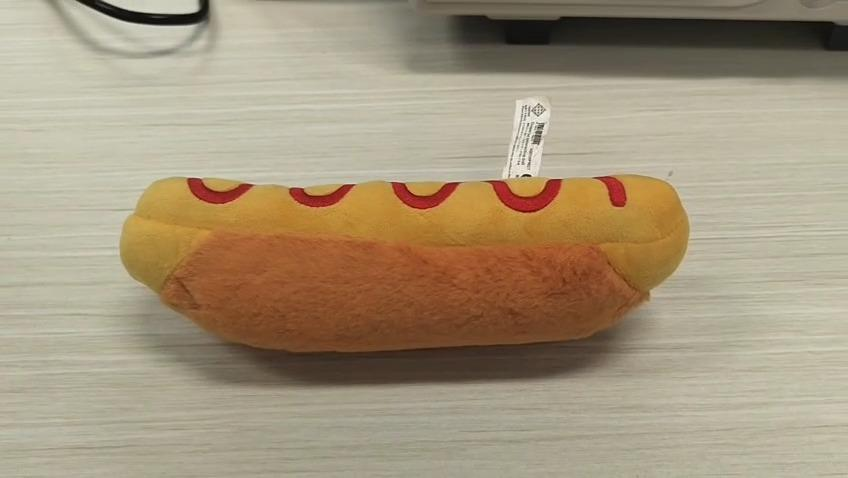hotdog: (119, 176, 688, 351)
